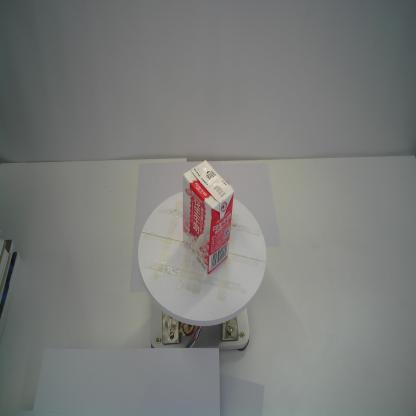Milk: (181, 158, 236, 276)
